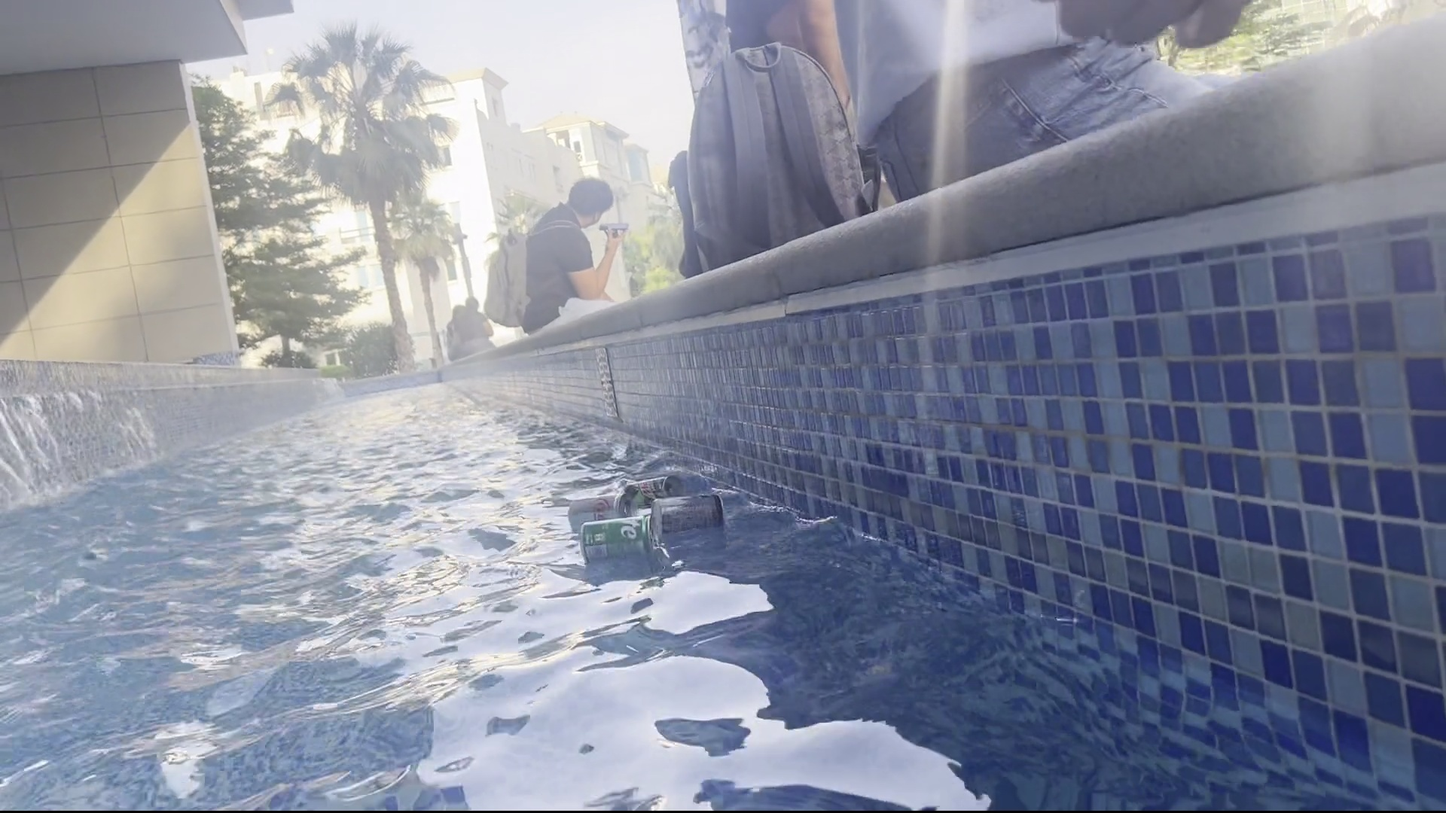debris: (575, 507, 660, 564), (643, 488, 728, 537), (563, 492, 640, 531), (616, 473, 685, 510)
